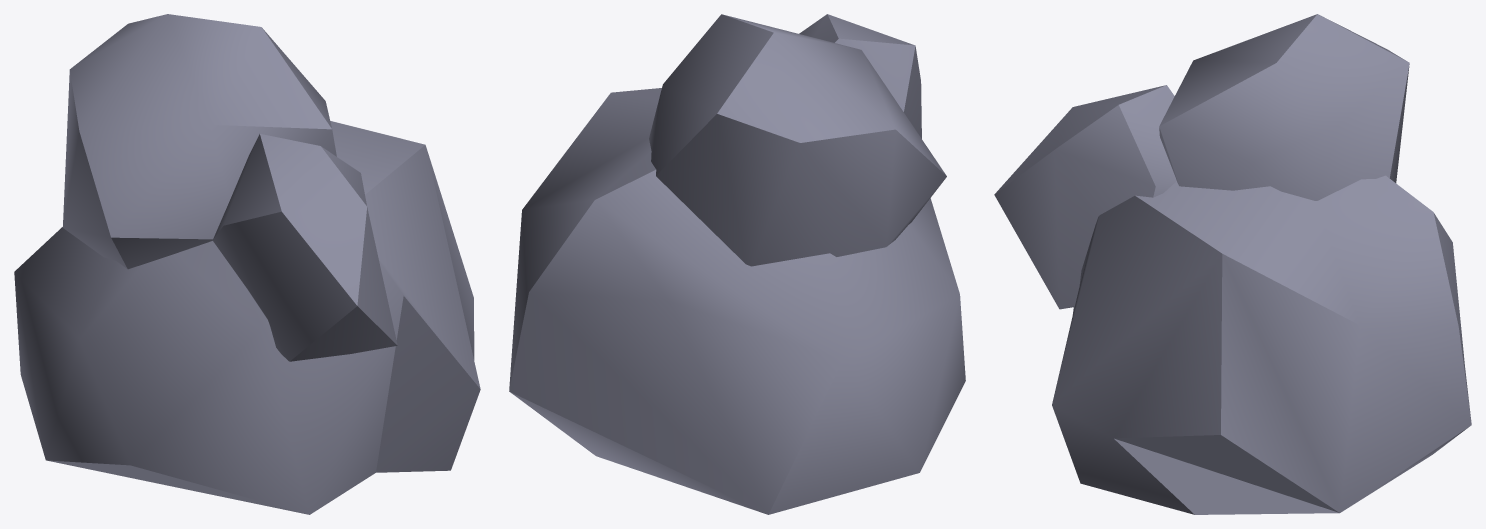
The model's file is Rock2.fbx.
The picture shows the model from 3 angles, left to right: view 1: azimuth 30°, elevation 25°; view 2: azimuth 150°, elevation 25°; view 3: azimuth 270°, elevation 25°; orthographic projection. The views are drawn at different scales.
Visible parts, largest first — view 1: Rock_2; view 2: Rock_2; view 3: Rock_2.
Boxes of the visible parts, <box> form: Rock_2: <box>14,14,480,514</box>; Rock_2: <box>509,14,965,514</box>; Rock_2: <box>994,14,1471,514</box>.
Size of the model in its own units: 578 by 574 by 631.
